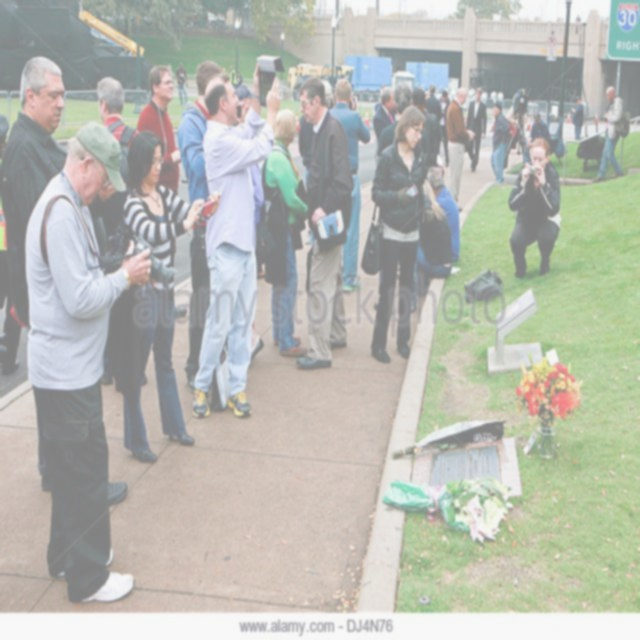pessoa: (22, 118, 153, 606), (0, 56, 130, 508), (184, 64, 285, 424), (121, 129, 222, 464), (91, 76, 150, 392), (294, 75, 356, 372), (367, 100, 431, 369), (175, 58, 226, 392), (135, 64, 190, 322), (259, 105, 312, 364), (328, 76, 372, 292), (504, 133, 563, 285), (296, 76, 338, 289), (0, 111, 25, 378), (407, 205, 454, 316), (376, 80, 431, 158), (444, 85, 477, 213), (590, 82, 631, 184), (426, 164, 462, 263), (410, 86, 443, 166), (464, 87, 489, 175), (489, 101, 511, 186), (372, 86, 397, 145), (290, 62, 354, 82), (436, 88, 451, 167), (525, 111, 552, 149), (174, 61, 190, 106), (424, 82, 442, 122), (570, 95, 585, 141), (234, 83, 255, 114), (228, 66, 244, 90), (573, 10, 583, 36)
